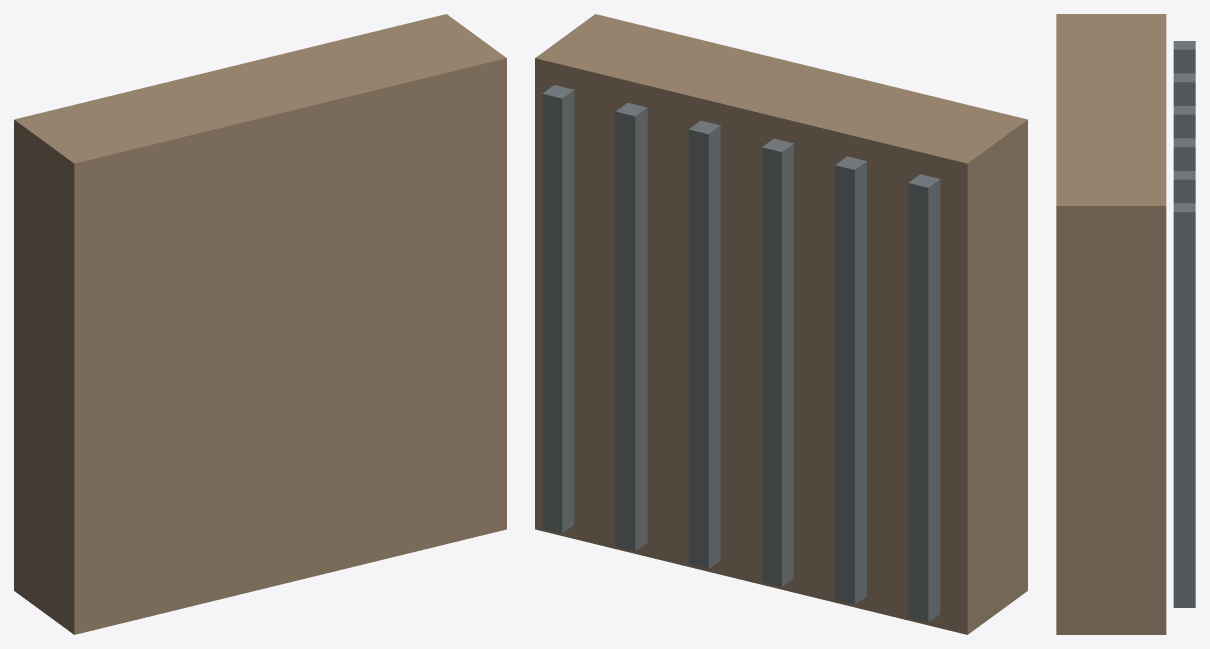
File: iz2_weapon_bipod.glb
3 views of the same model, side by side, from view 1: azimuth 30°, elevation 25°; view 2: azimuth 150°, elevation 25°; view 3: azimuth 270°, elevation 25° (orthographic). The views are drawn at different scales.
Visible parts, largest first — view 1: body; view 2: body; view 3: body.
Boxes of the visible parts, x1,y1,x2,y2 form: body: [14, 14, 506, 634]; body: [535, 14, 1027, 634]; body: [1056, 14, 1195, 634].
Bounding box in the file's own units: 1.26 × 1.31 × 0.3848.
